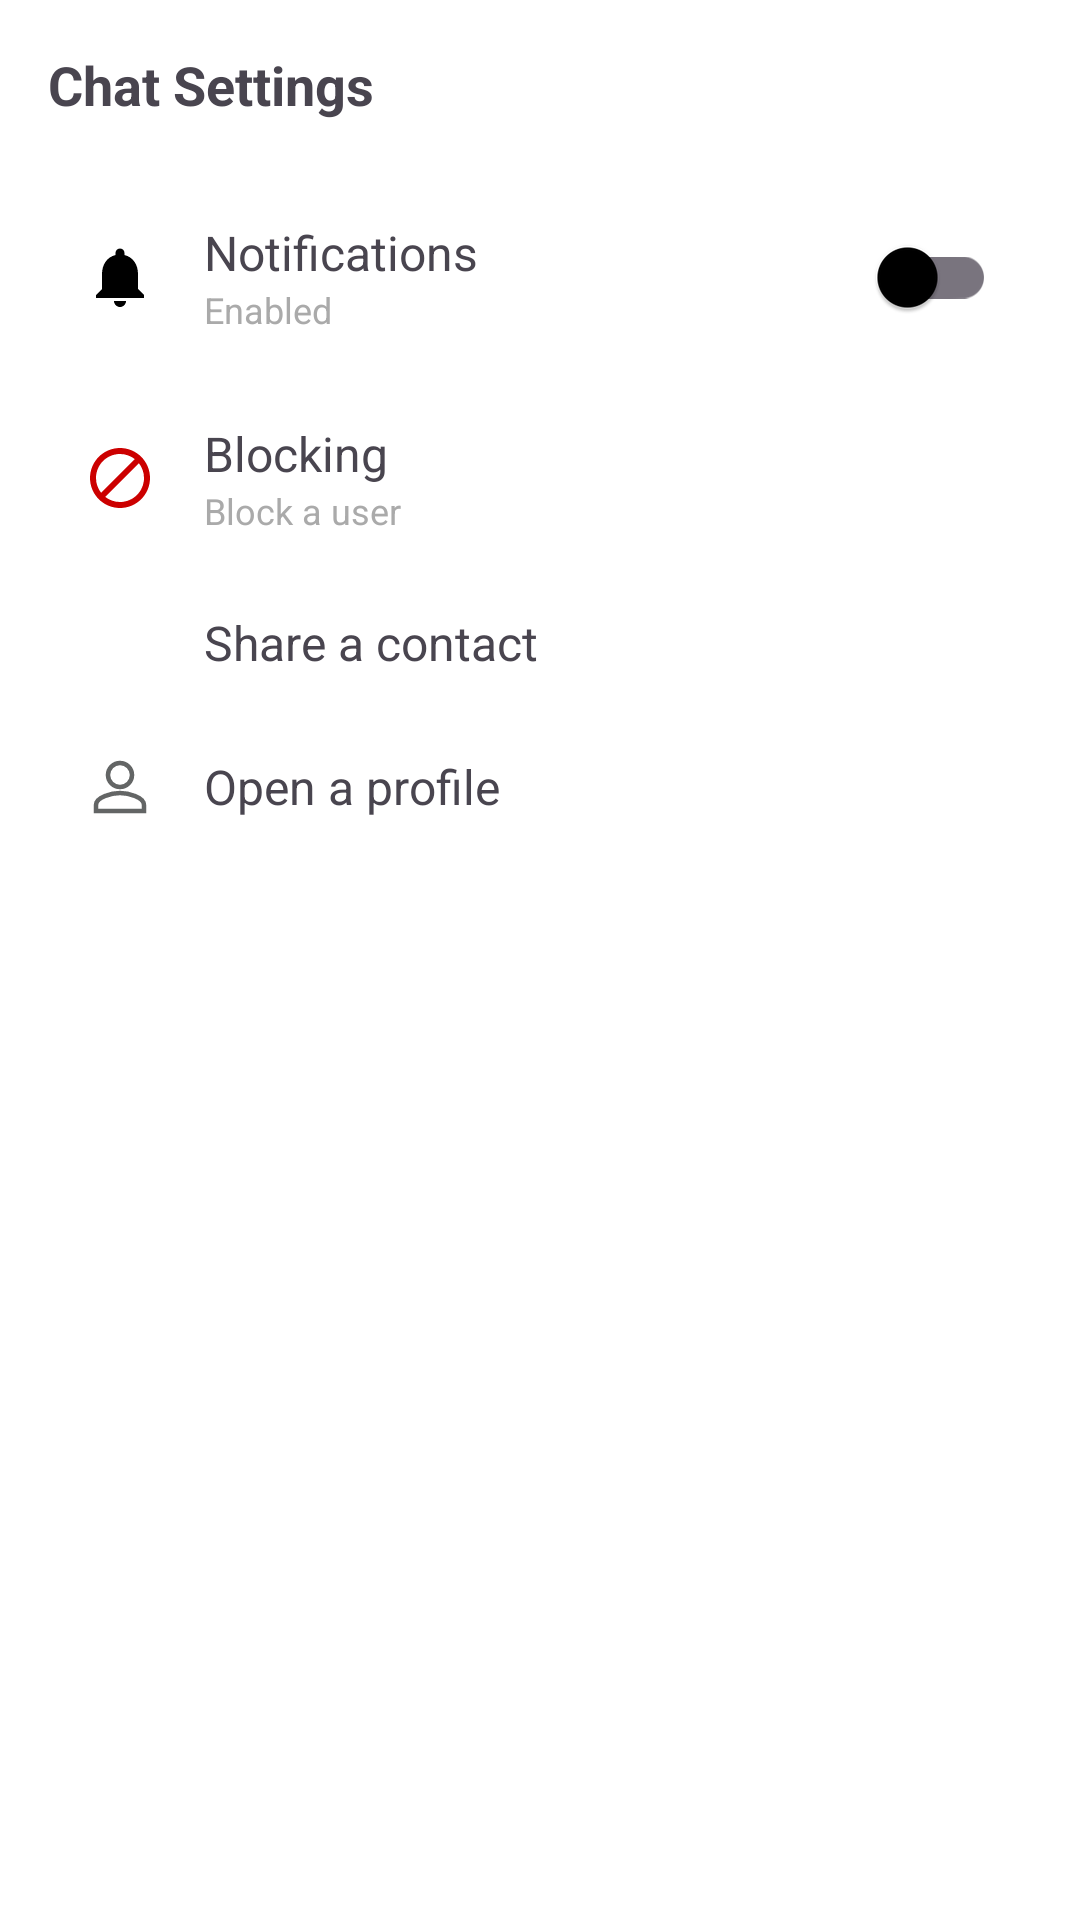

Icon click points for this 1080w x 1920h phone screenshot, format [x,y]:
person: [120,787]
